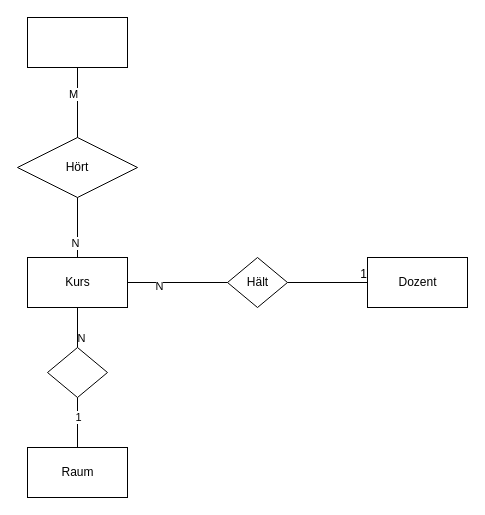
This 485x515 diagram has some shape labels left out. The centre of each missing label's shape, as x and y in pixels:
"Höhrer" goes at point (77, 42).
"Ist in Raum" goes at point (77, 372).
